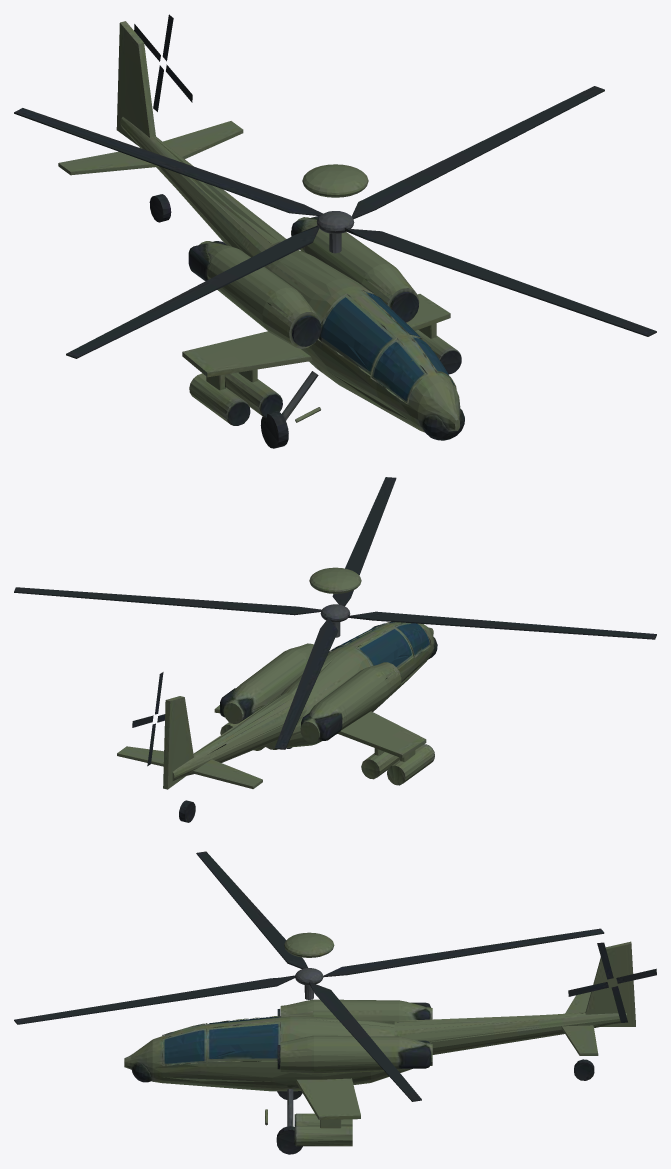
Rendered from ride_heli.glb.
The picture shows the model from 3 angles, top to bottom: view 1: azimuth 30°, elevation 25°; view 2: azimuth 150°, elevation 25°; view 3: azimuth 270°, elevation 25°; orthographic projection. The views are drawn at different scales.
Visible parts, largest first — view 1: LOW; view 2: LOW; view 3: LOW.
Boxes of the visible parts, x1,y1,x2,y2 form: LOW: [14, 14, 656, 448]; LOW: [14, 477, 656, 822]; LOW: [14, 851, 656, 1154].
Bounding box in the file's own units: 12.46 × 4.5 × 13.56.
Materials: 1 (1 with a texture image).
